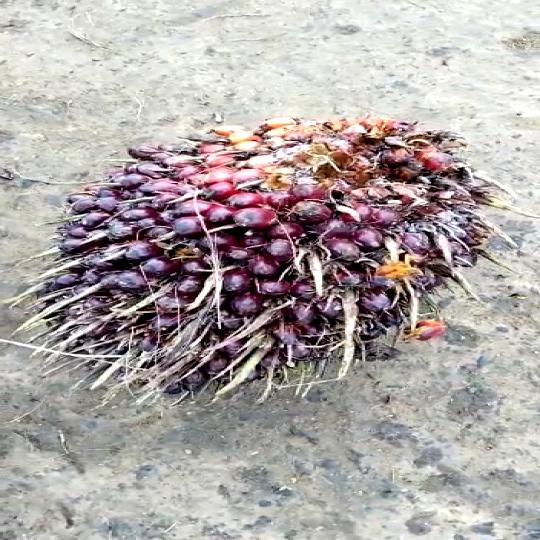kurang masak: (48, 89, 495, 406)
